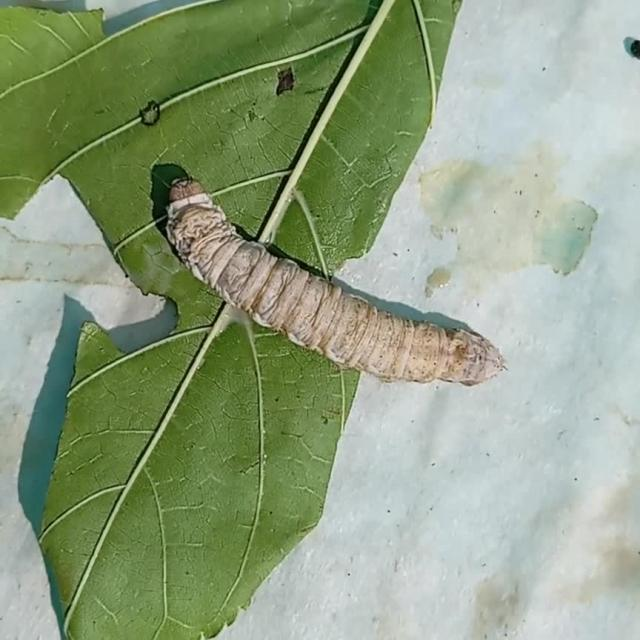Grasserie: (146, 157, 515, 425)
